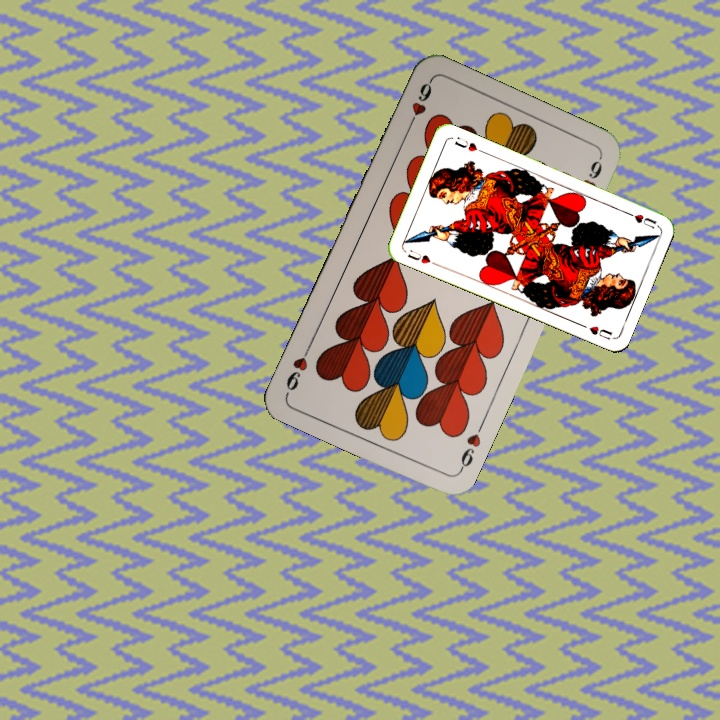H9: (403, 77, 435, 133), (455, 419, 486, 475)
HU: (621, 208, 659, 231), (403, 246, 440, 268)
